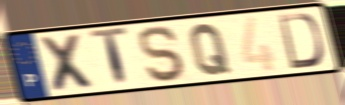4: (240, 16, 279, 73)
D: (276, 11, 325, 71)
Q: (187, 22, 233, 78)
S: (138, 24, 190, 83)
T: (88, 25, 131, 90)
X: (36, 32, 101, 94)
